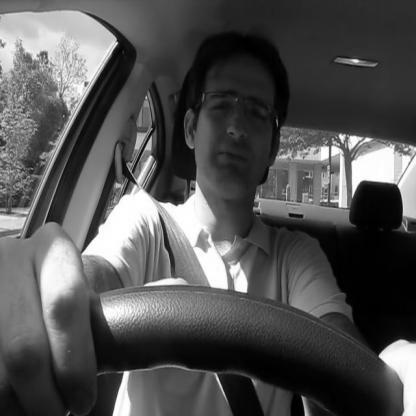seatbelt: (108, 26, 309, 286)
